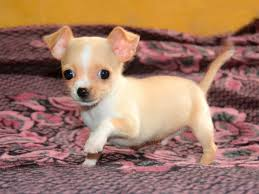chihuahua: (34, 16, 251, 176)
